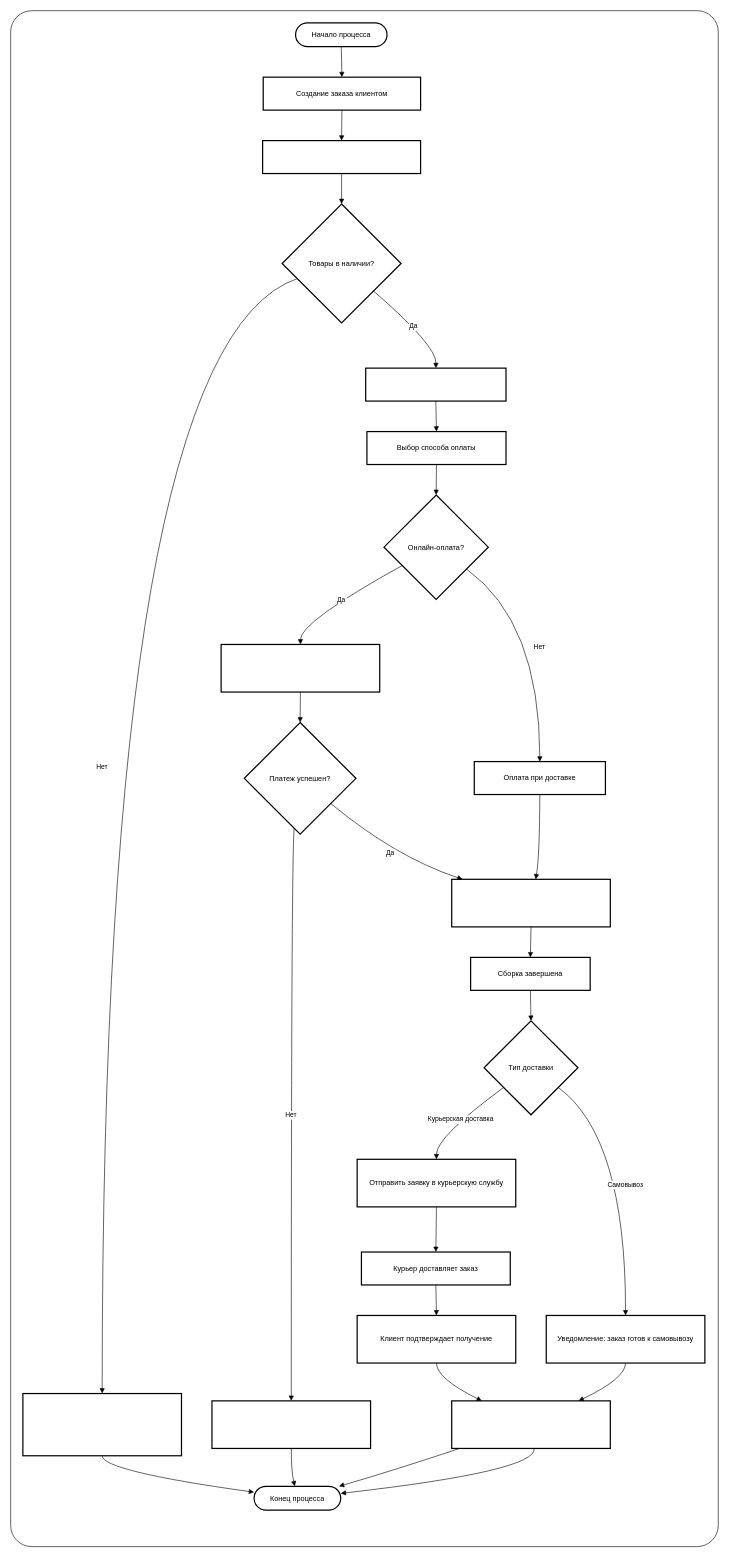
This 729x1557 diagram has some shape labels left out. The shapes that lost their labels are listed below. From the top down, each one's centre as x and y in pixels, then its label:
the point at 341,157: Проверка наличия товаров
the point at 435,384: Подтверждение заказа
the point at 300,668: Проверка платежа через платежный шлюз
the point at 531,902: Склад: начало сборки заказа
the point at 102,1424: Отправить клиенту уведомление об изменении заказа
the point at 291,1424: Уведомление: повторить оплату
the point at 531,1424: Отправка электронного чека
